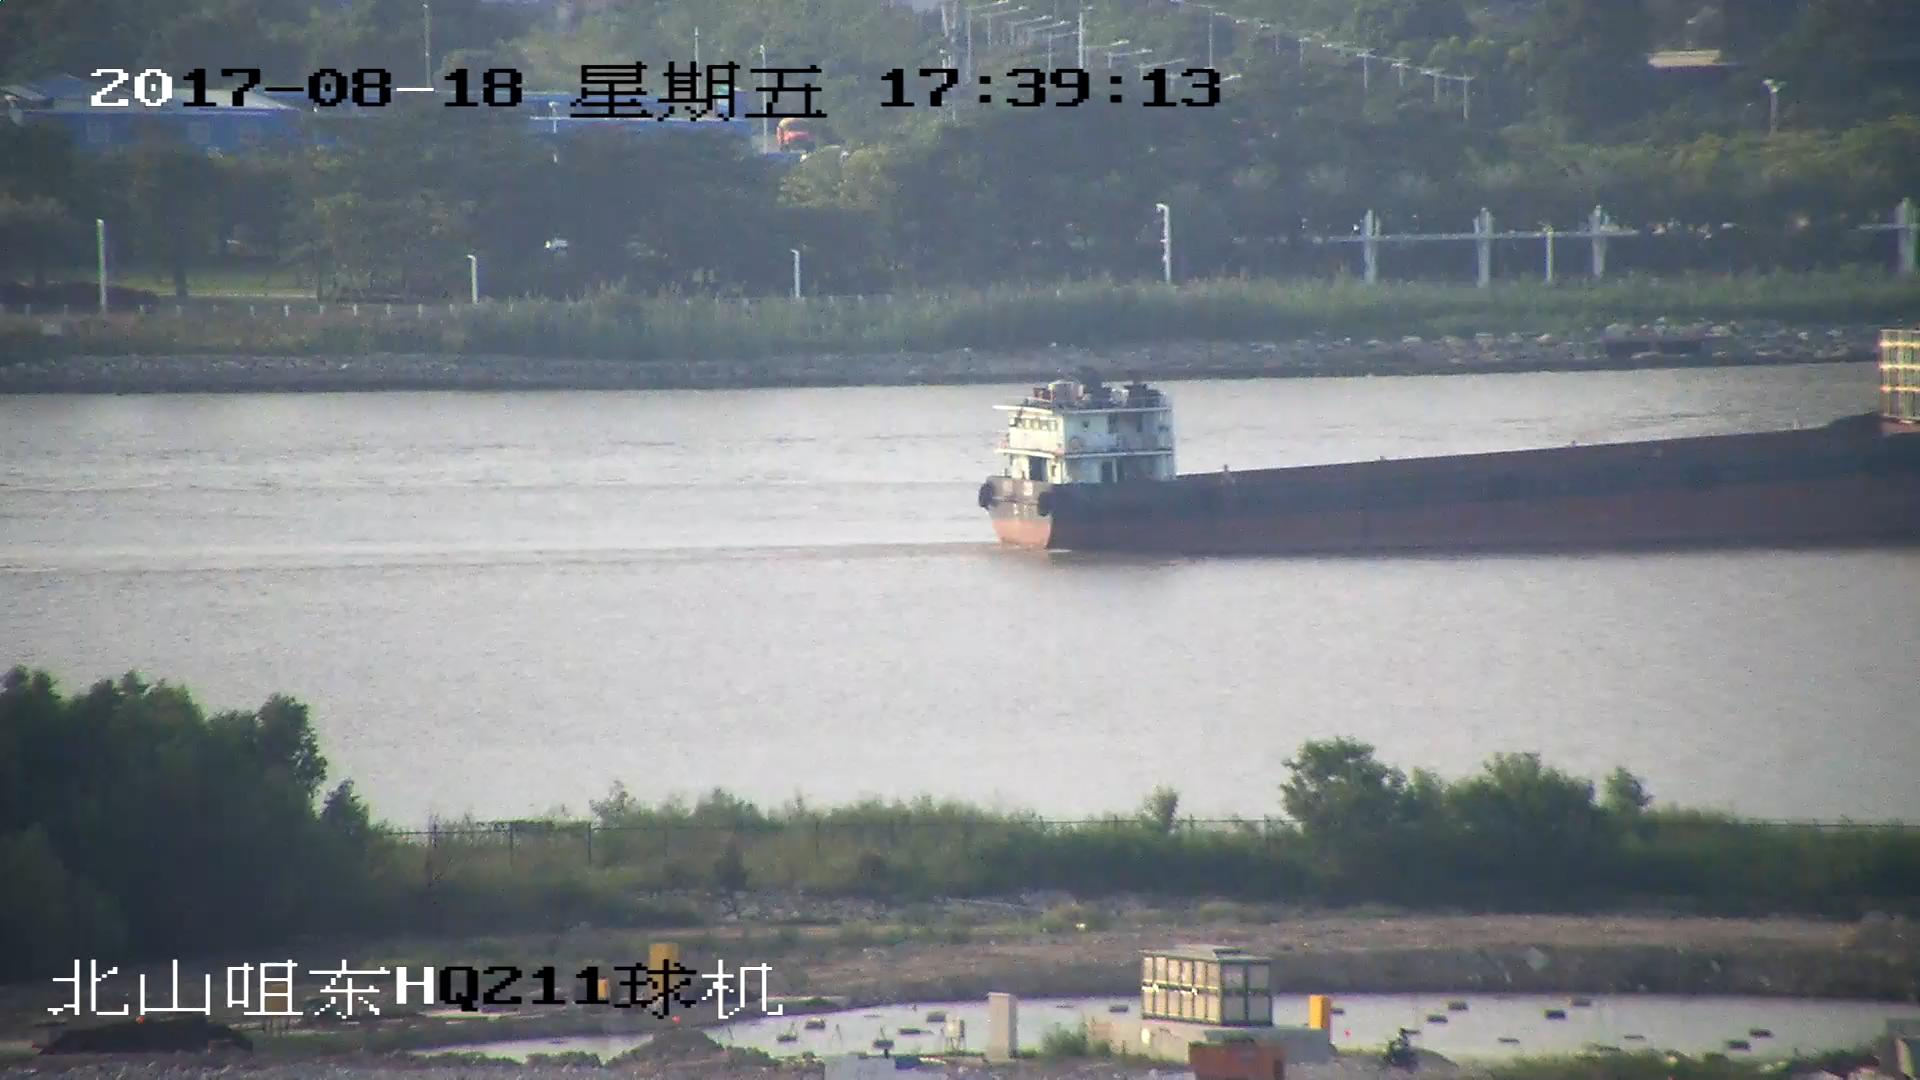general cargo ship: (979, 334, 1920, 556)
